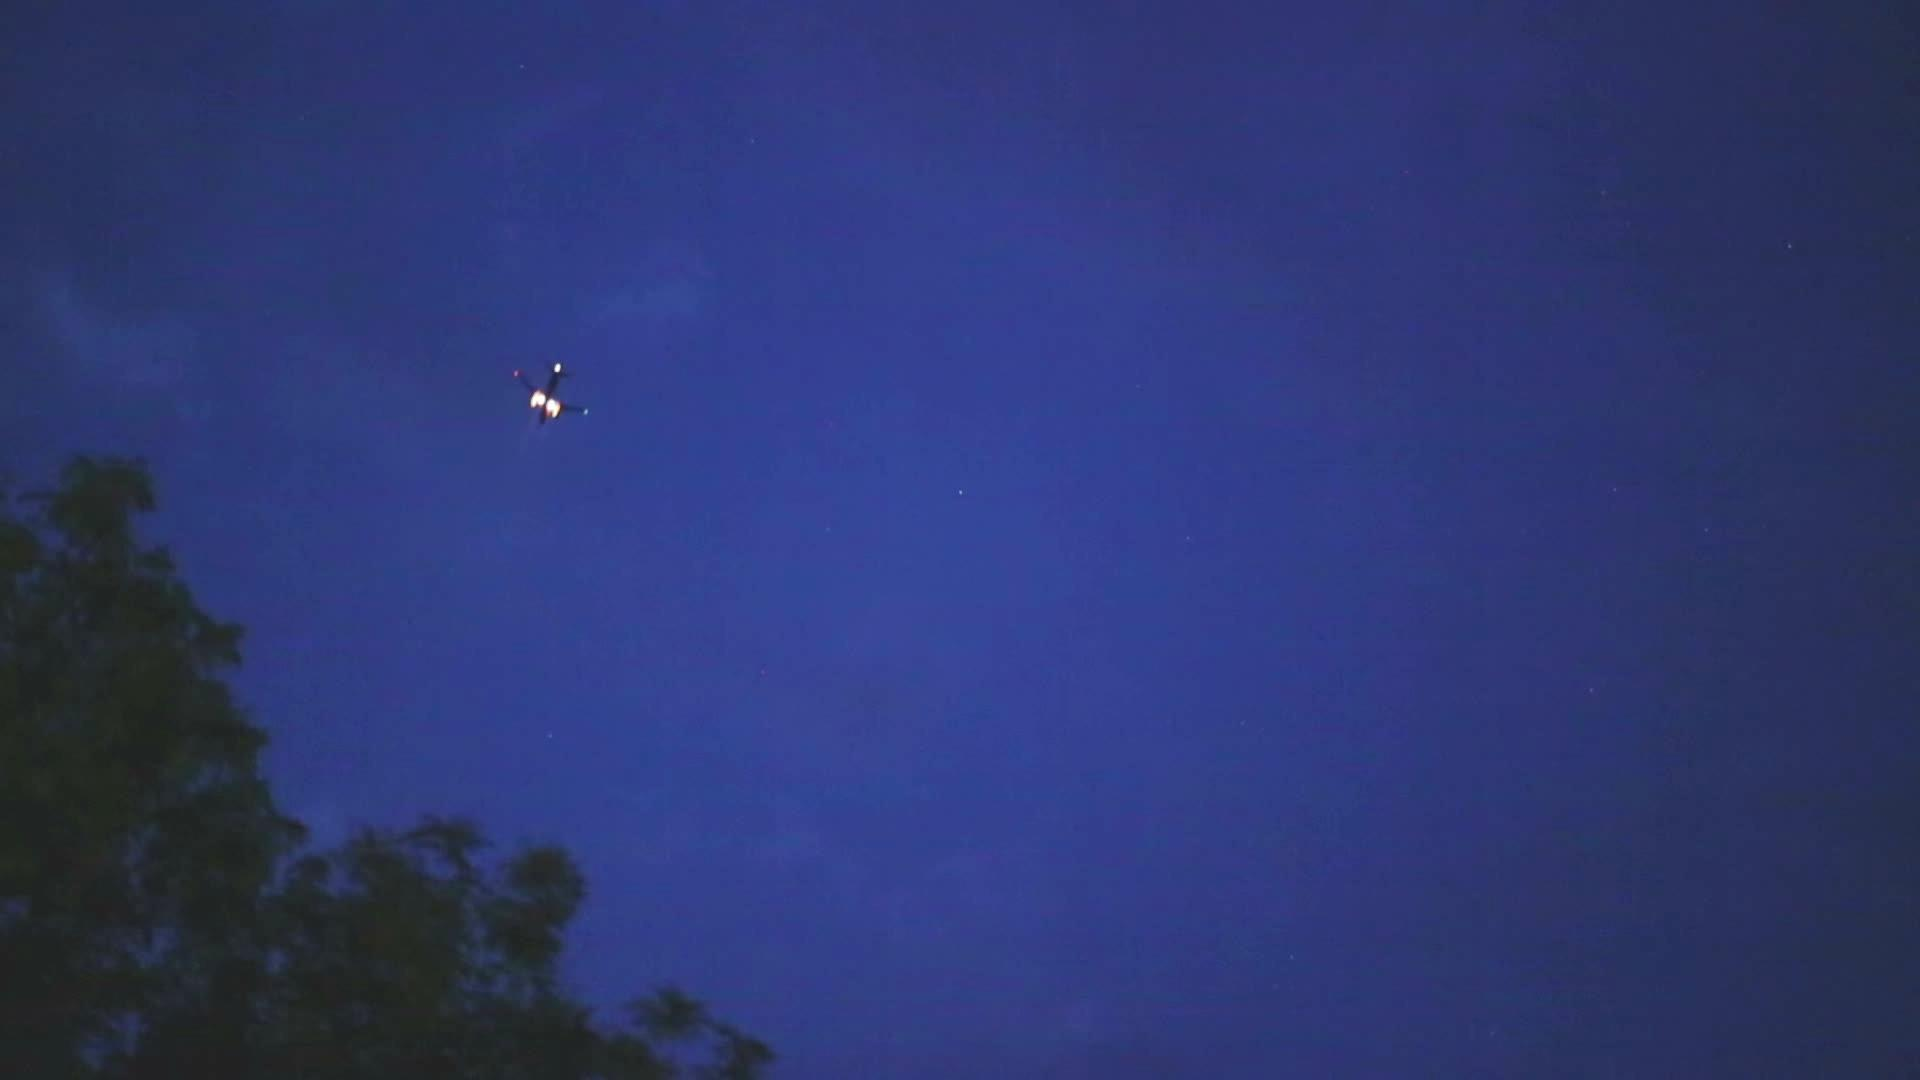Plane: (495, 345, 603, 442)
